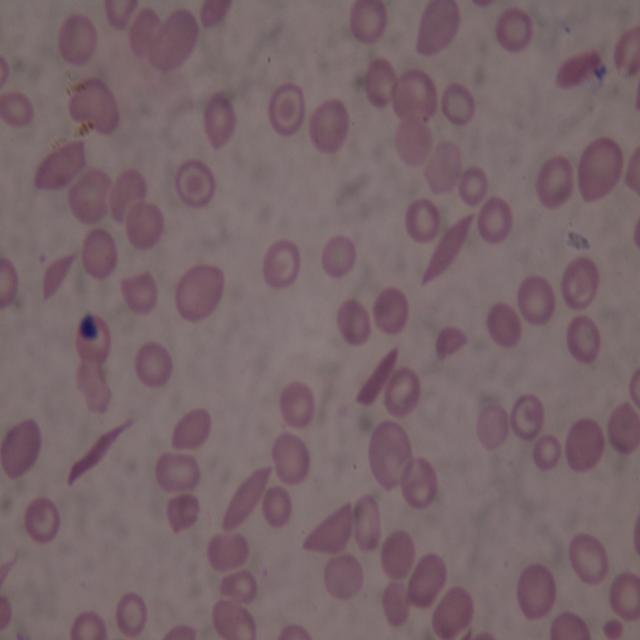Crystal: (31, 132, 88, 194), (555, 50, 602, 86)
Normal: (564, 312, 603, 367), (515, 275, 557, 326), (278, 378, 318, 430), (348, 0, 392, 46), (76, 314, 114, 367), (496, 4, 534, 54), (478, 196, 516, 243), (135, 340, 173, 387), (403, 197, 442, 242), (608, 572, 640, 620), (114, 591, 147, 637), (441, 83, 477, 124), (459, 163, 488, 207), (69, 610, 108, 640), (533, 435, 562, 469)
Others: (66, 75, 127, 138), (575, 136, 623, 205), (413, 0, 465, 59), (367, 420, 412, 488), (154, 7, 198, 76), (173, 264, 225, 322), (66, 169, 113, 230), (0, 416, 42, 480), (308, 96, 350, 154), (430, 583, 474, 638), (269, 431, 312, 486), (392, 69, 439, 119), (201, 93, 240, 153), (321, 552, 365, 604), (566, 532, 608, 586), (75, 363, 114, 421), (517, 562, 555, 621), (566, 416, 605, 473), (110, 164, 149, 220), (155, 448, 202, 494), (406, 554, 446, 607), (206, 600, 260, 639), (260, 238, 302, 288), (560, 256, 598, 310), (171, 405, 213, 453), (80, 229, 119, 280), (402, 457, 438, 512), (392, 120, 433, 168), (536, 155, 573, 207), (125, 201, 164, 250), (369, 286, 408, 335), (58, 13, 96, 63), (426, 141, 462, 193), (353, 489, 382, 553), (23, 497, 60, 547), (118, 270, 160, 314), (162, 495, 204, 537), (205, 532, 253, 567), (387, 368, 422, 416), (486, 301, 522, 347), (607, 403, 640, 453), (475, 402, 509, 450), (320, 236, 358, 278), (217, 570, 261, 606), (338, 298, 371, 346), (383, 527, 414, 578), (612, 20, 640, 76), (363, 58, 396, 105), (128, 6, 156, 60), (550, 608, 592, 640), (381, 578, 410, 624), (262, 486, 292, 530), (434, 326, 466, 365), (0, 92, 35, 124), (75, 314, 99, 340)
Sickle: (66, 416, 138, 491), (422, 208, 477, 290), (222, 463, 276, 532), (353, 343, 405, 407), (299, 499, 353, 560), (40, 245, 79, 307)
Target: (171, 160, 220, 210), (268, 83, 306, 138), (508, 391, 545, 441)
